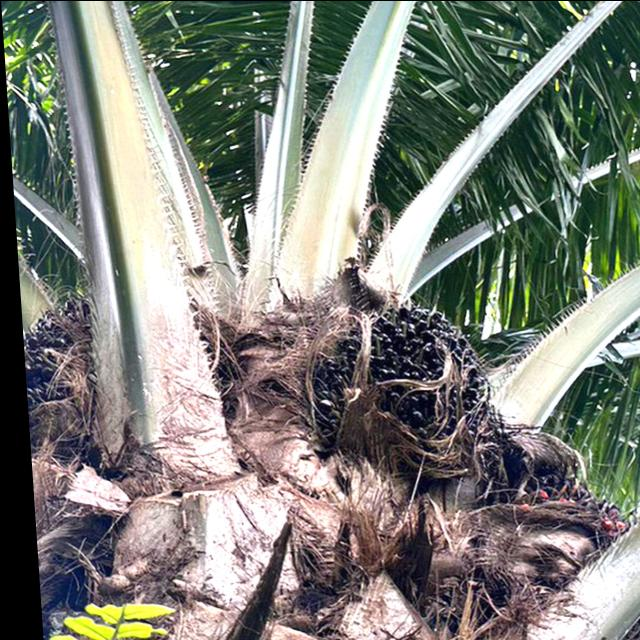unripe: (294, 300, 487, 462), (15, 292, 115, 435)
